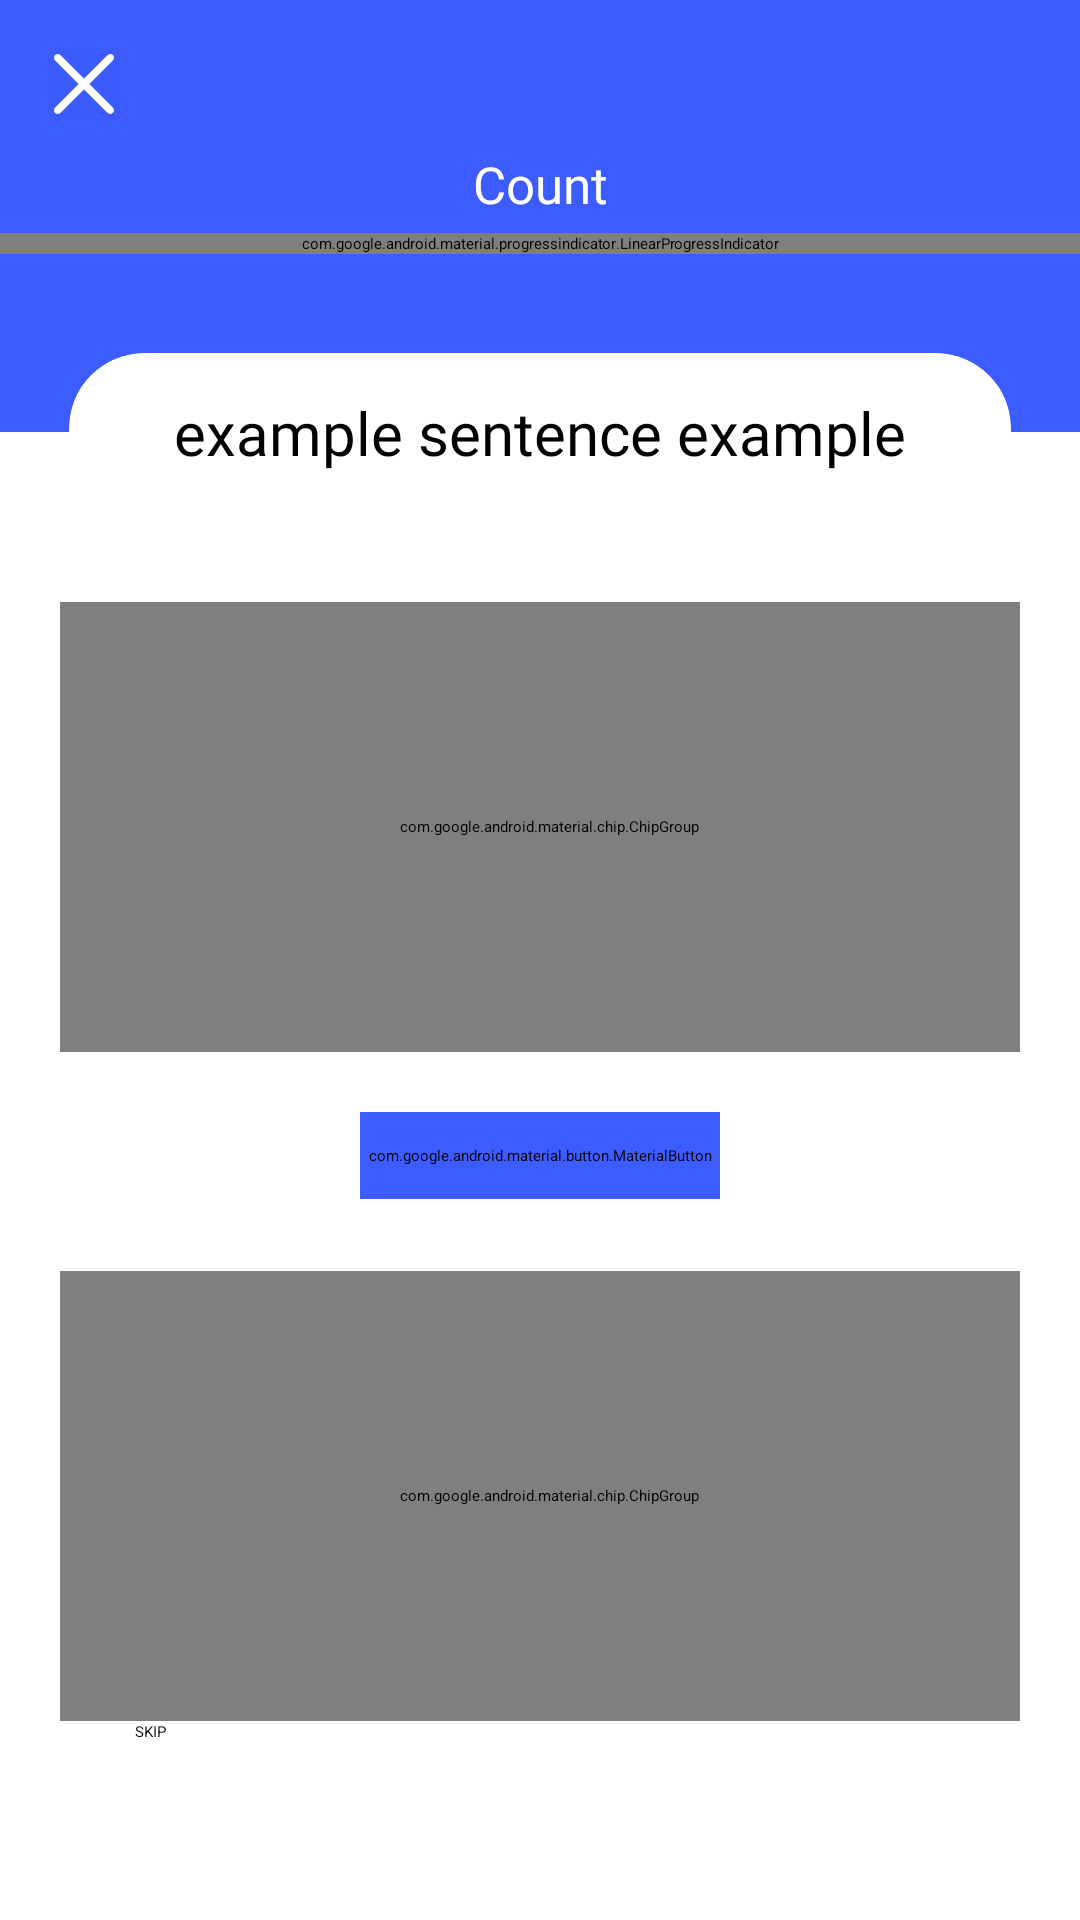

Screen size 1080w x 1920h. Icon name, then its center in pixels as (x=x, y=y):
close image button: (x=84, y=84)
